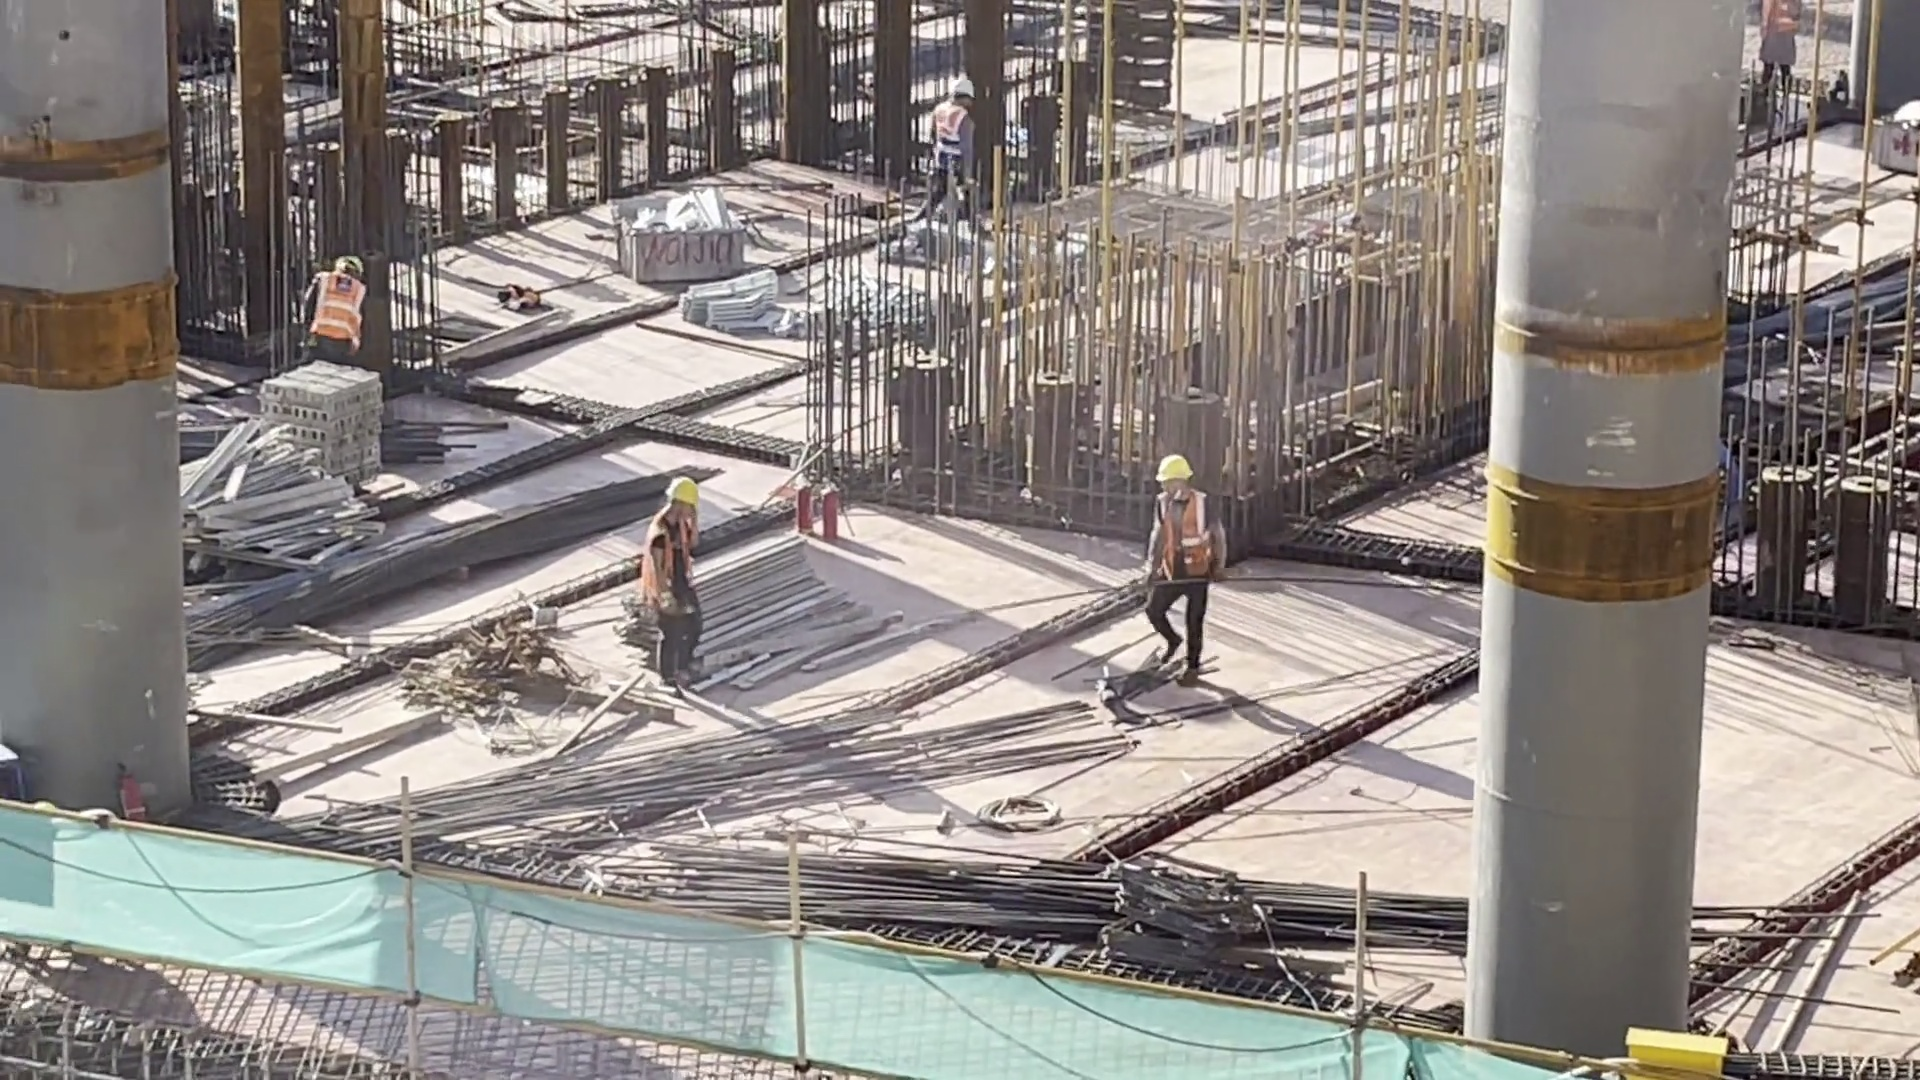ebox: (1621, 1020, 1723, 1080)
helmet: (665, 479, 709, 513), (1146, 456, 1192, 486), (952, 75, 986, 107)
hopper: (601, 178, 758, 295)
person: (1121, 450, 1240, 698), (632, 469, 715, 683), (306, 234, 373, 393), (928, 72, 978, 209)
vest: (652, 504, 701, 633), (1150, 498, 1218, 586), (308, 272, 372, 344), (939, 104, 974, 165)
wood: (618, 523, 869, 706)
